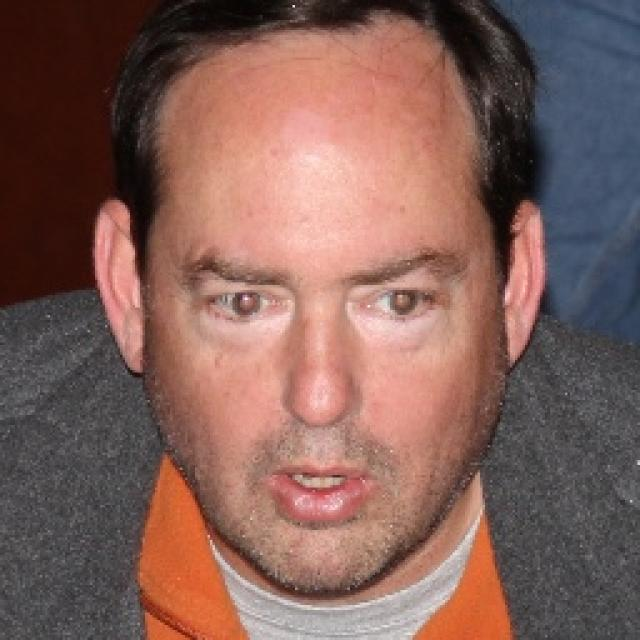earlobe: (116, 336, 146, 375), (503, 330, 529, 369)
eye: (201, 288, 286, 316), (357, 290, 448, 316)
nose: (289, 408, 354, 454)
wholeear: (95, 199, 149, 375), (507, 200, 548, 369)
